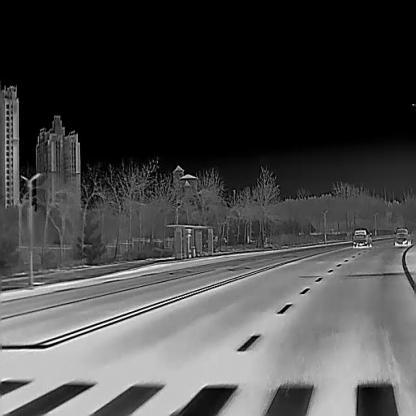car: (352, 227, 372, 246), (393, 226, 412, 245)
